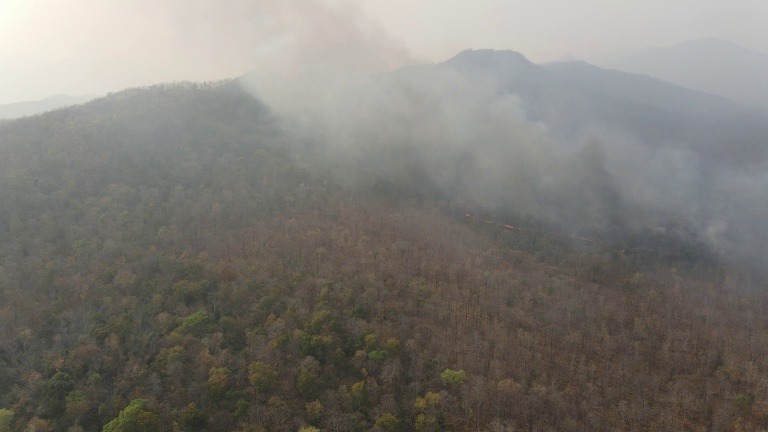fire: (452, 194, 528, 233), (562, 229, 603, 246)
smoke: (198, 1, 568, 223), (561, 118, 768, 262)
